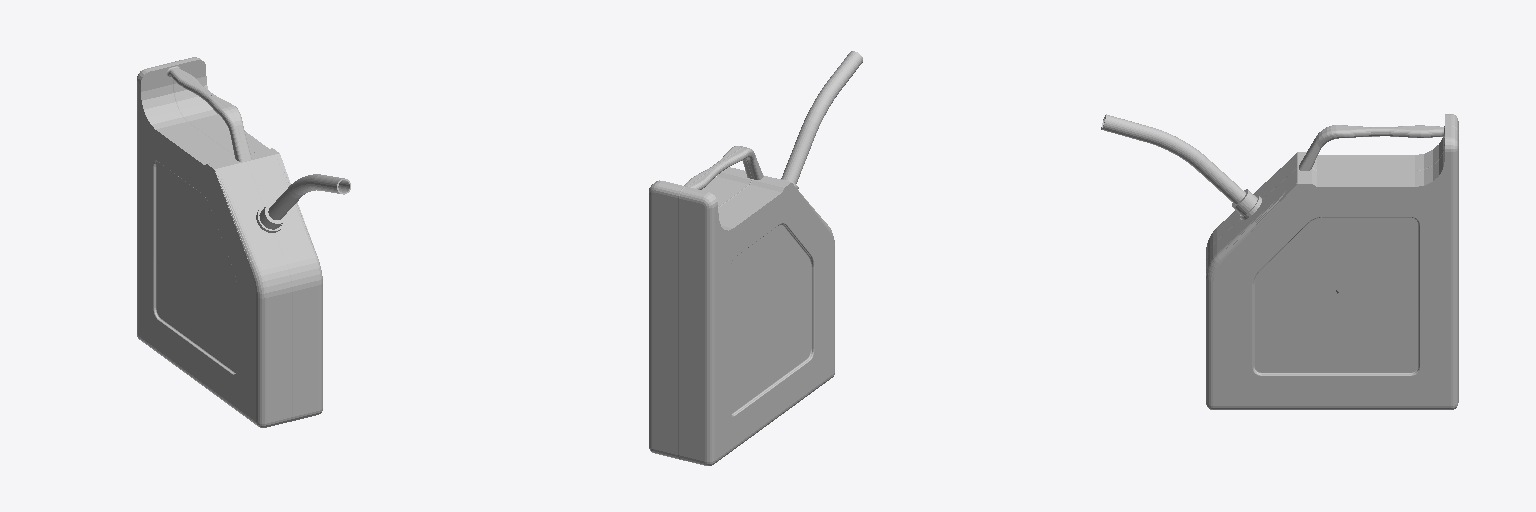
Rendered from Gas Can.obj.
3 views of the same model, side by side, from view 1: azimuth 30°, elevation 25°; view 2: azimuth 150°, elevation 25°; view 3: azimuth 270°, elevation 25° (orthographic).
Parts seen in each view (by area): view 1: Gas_Can_Cube; view 2: Gas_Can_Cube; view 3: Gas_Can_Cube.
Boxes of the visible parts, <box> form: Gas_Can_Cube: <box>137,57,350,427</box>; Gas_Can_Cube: <box>649,51,862,465</box>; Gas_Can_Cube: <box>1101,114,1458,409</box>.
Bounding box in the file's own units: 0.6 × 2.46 × 2.83.